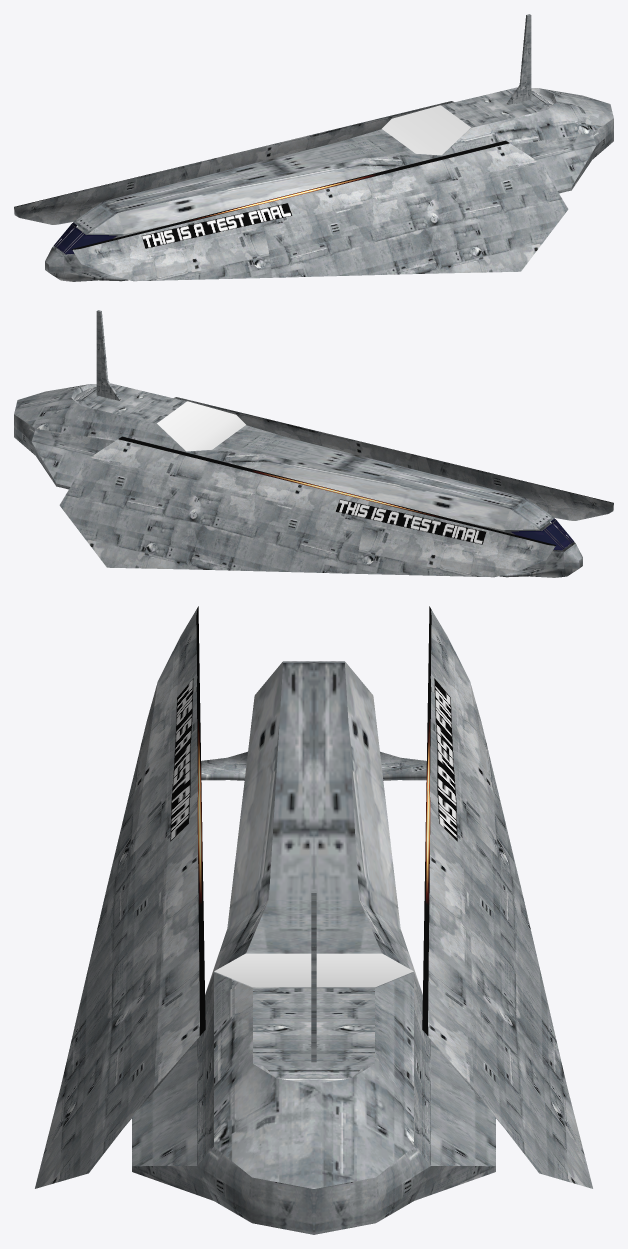
Rendered from sth33.obj.
3 views of the same model, one above another, from view 1: azimuth 30°, elevation 25°; view 2: azimuth 150°, elevation 25°; view 3: azimuth 270°, elevation 25° (orthographic). The views are drawn at different scales.
Visible parts, largest first — view 1: T_EXP3_HULL0, DECAL030.008, NAMEDECAL0.012; view 2: T_EXP3_HULL0, DECAL030.008, NAMEDECAL0.012; view 3: T_EXP3_HULL0, DECAL030.008, NAMEDECAL0.012.
Boxes of the visible parts, x1,y1,x2,y2 form: T_EXP3_HULL0: (14,14,613,281); DECAL030.008: (382,105,470,155); NAMEDECAL0.012: (141,203,292,248); T_EXP3_HULL0: (14,310,613,577); DECAL030.008: (157,401,245,451); NAMEDECAL0.012: (335,499,486,544); T_EXP3_HULL0: (35,606,592,1234); DECAL030.008: (214,953,413,987); NAMEDECAL0.012: (170,678,457,841).
Size of the model in its own units: 68.76 by 21.62 by 29.3.
Materials: 5 (5 with a texture image).
